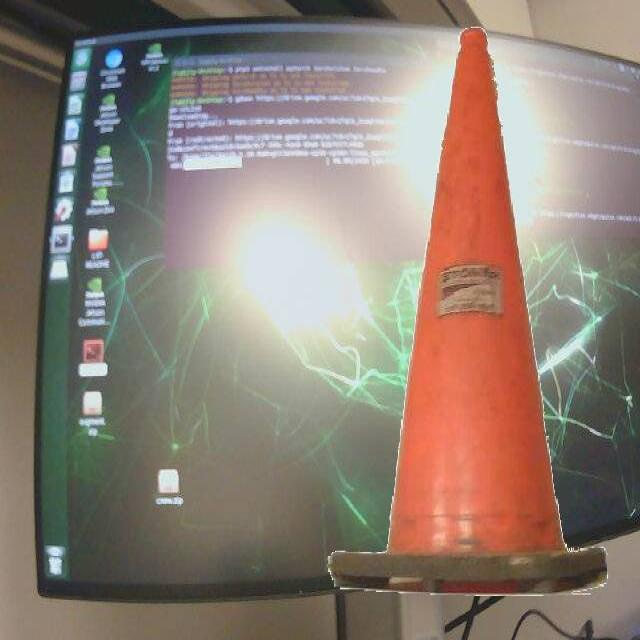traffic cone: (322, 19, 617, 607)
